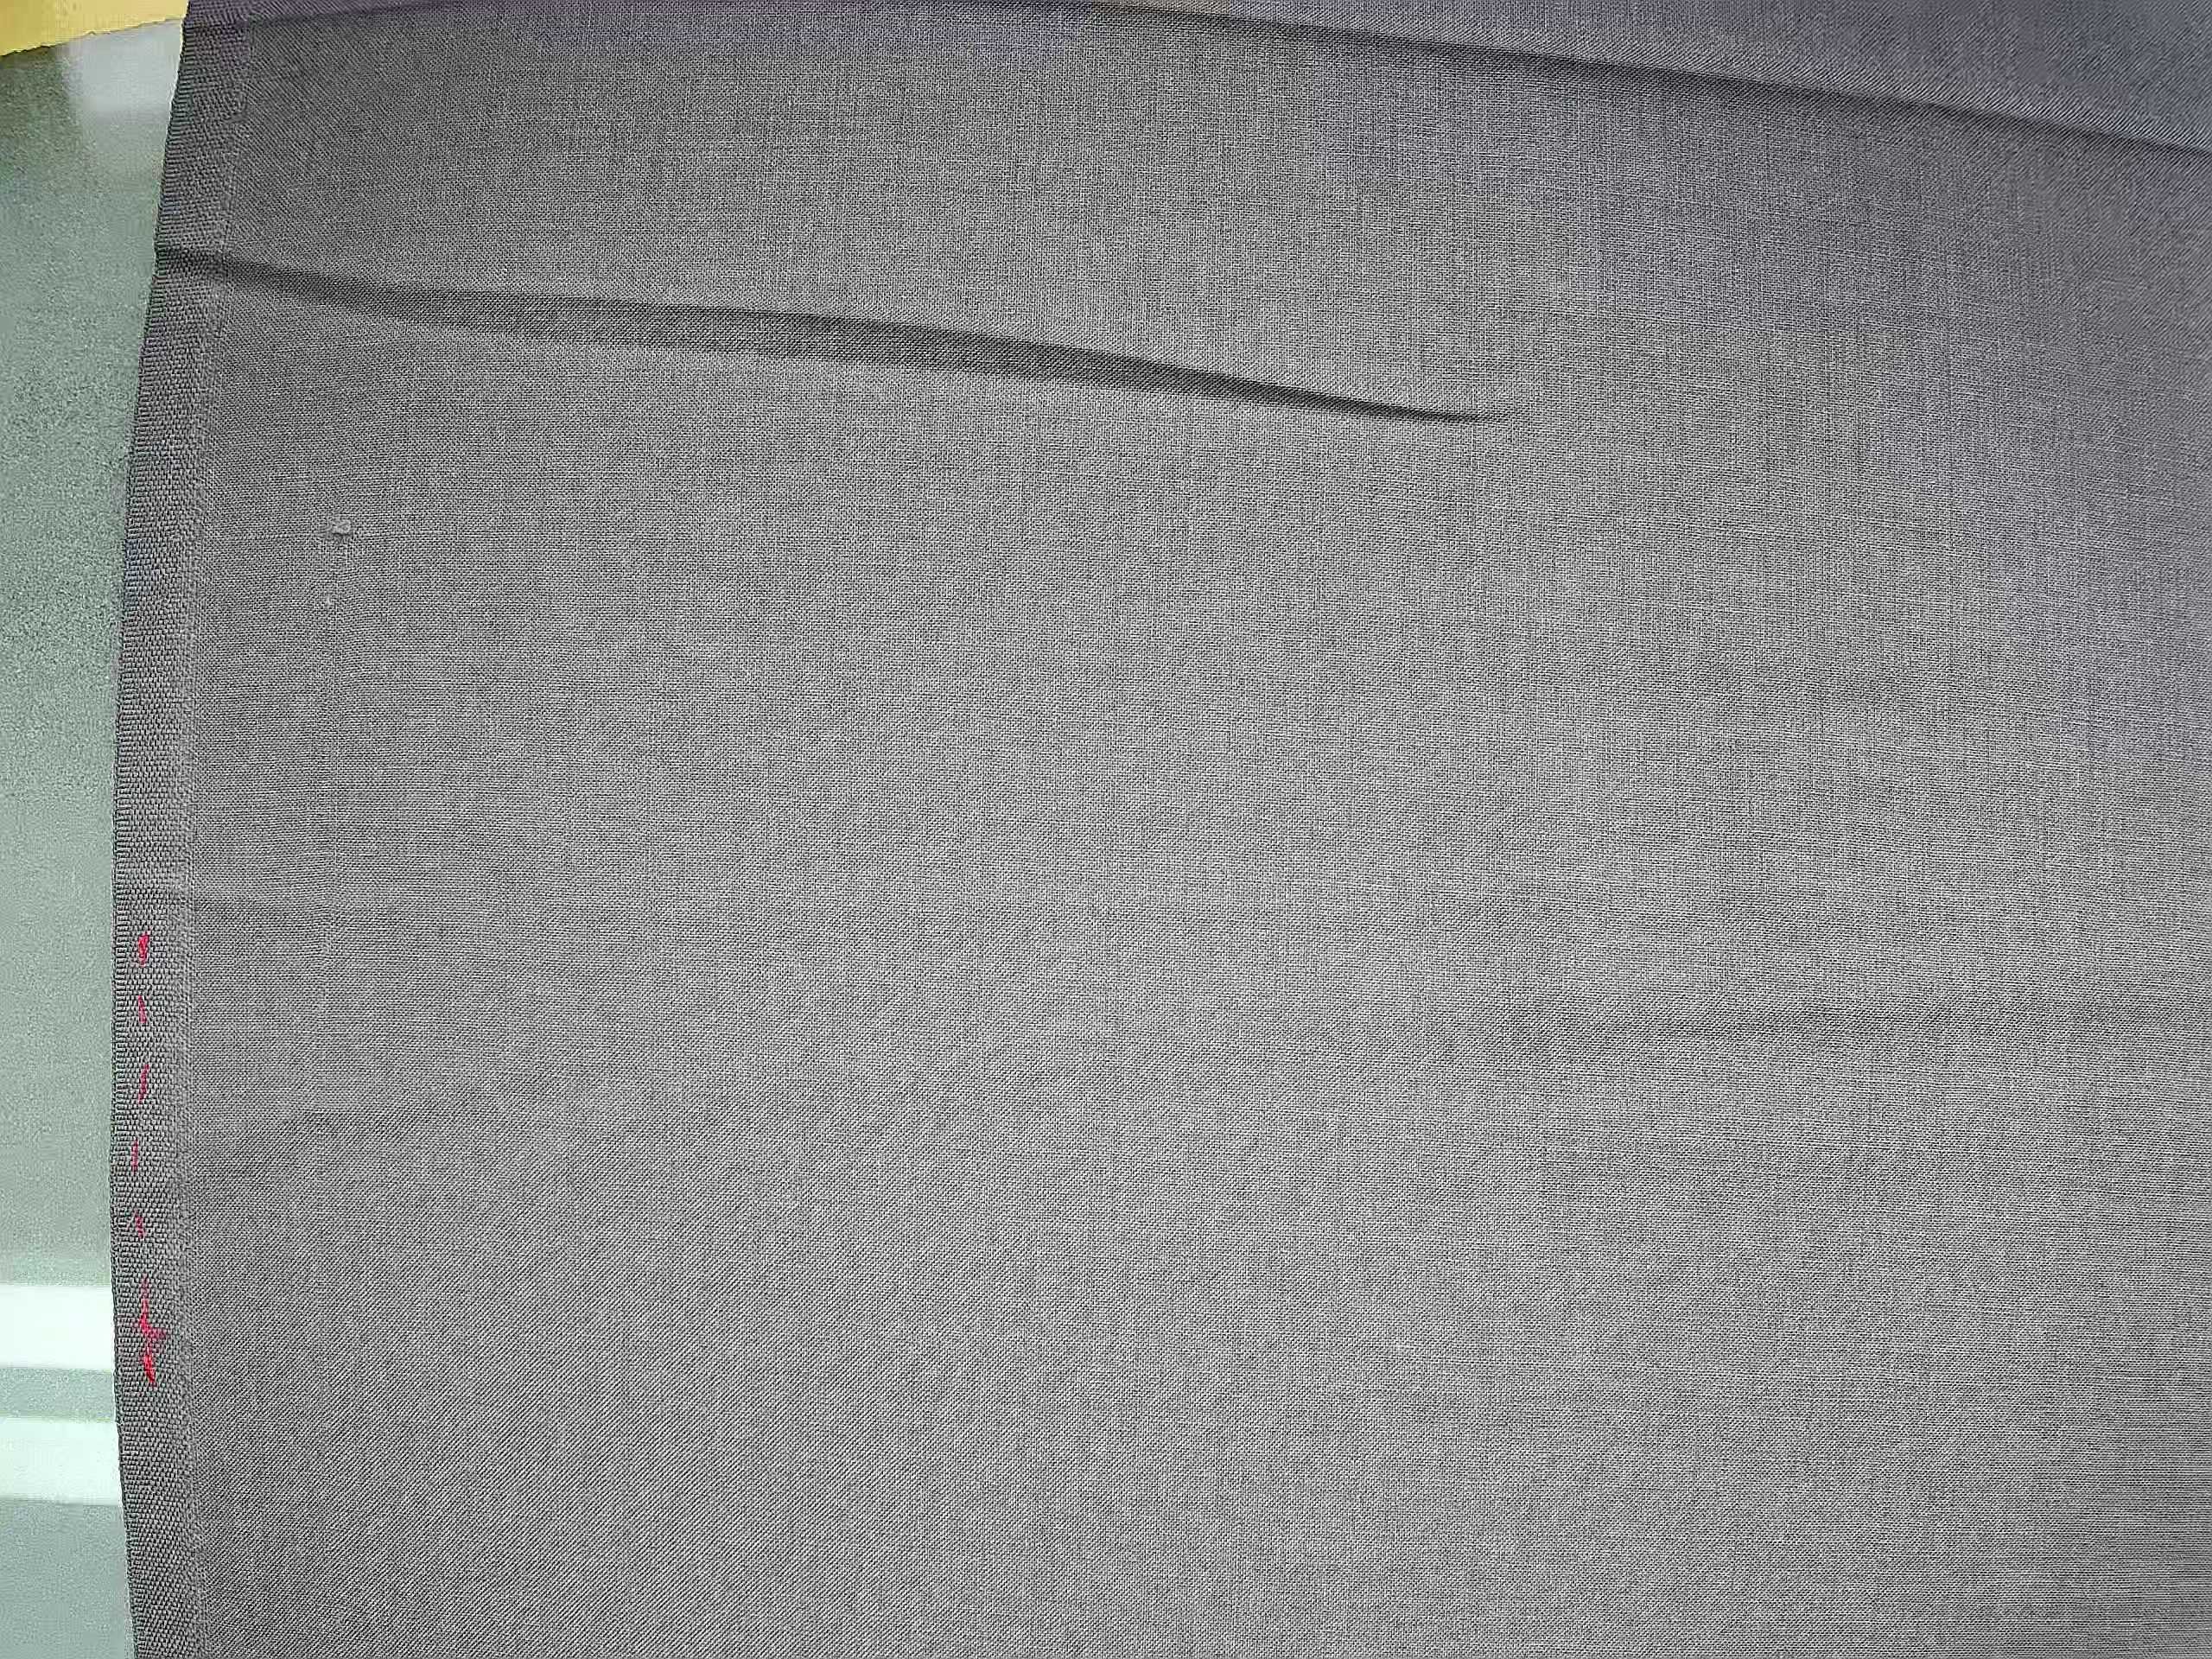lacking-warp: (303, 488, 381, 572)
